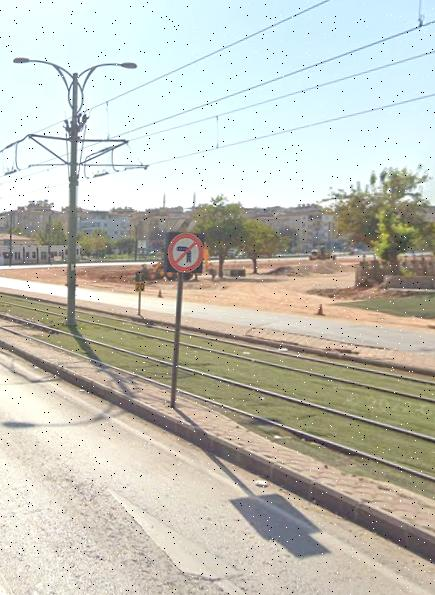leftturnsareforbidden: (169, 235, 203, 272)
